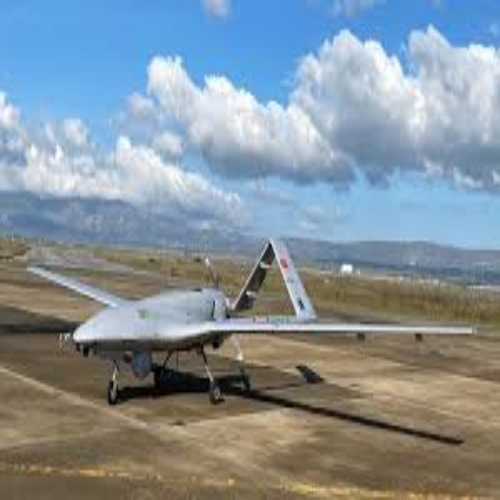uav209: (24, 237, 476, 405)
